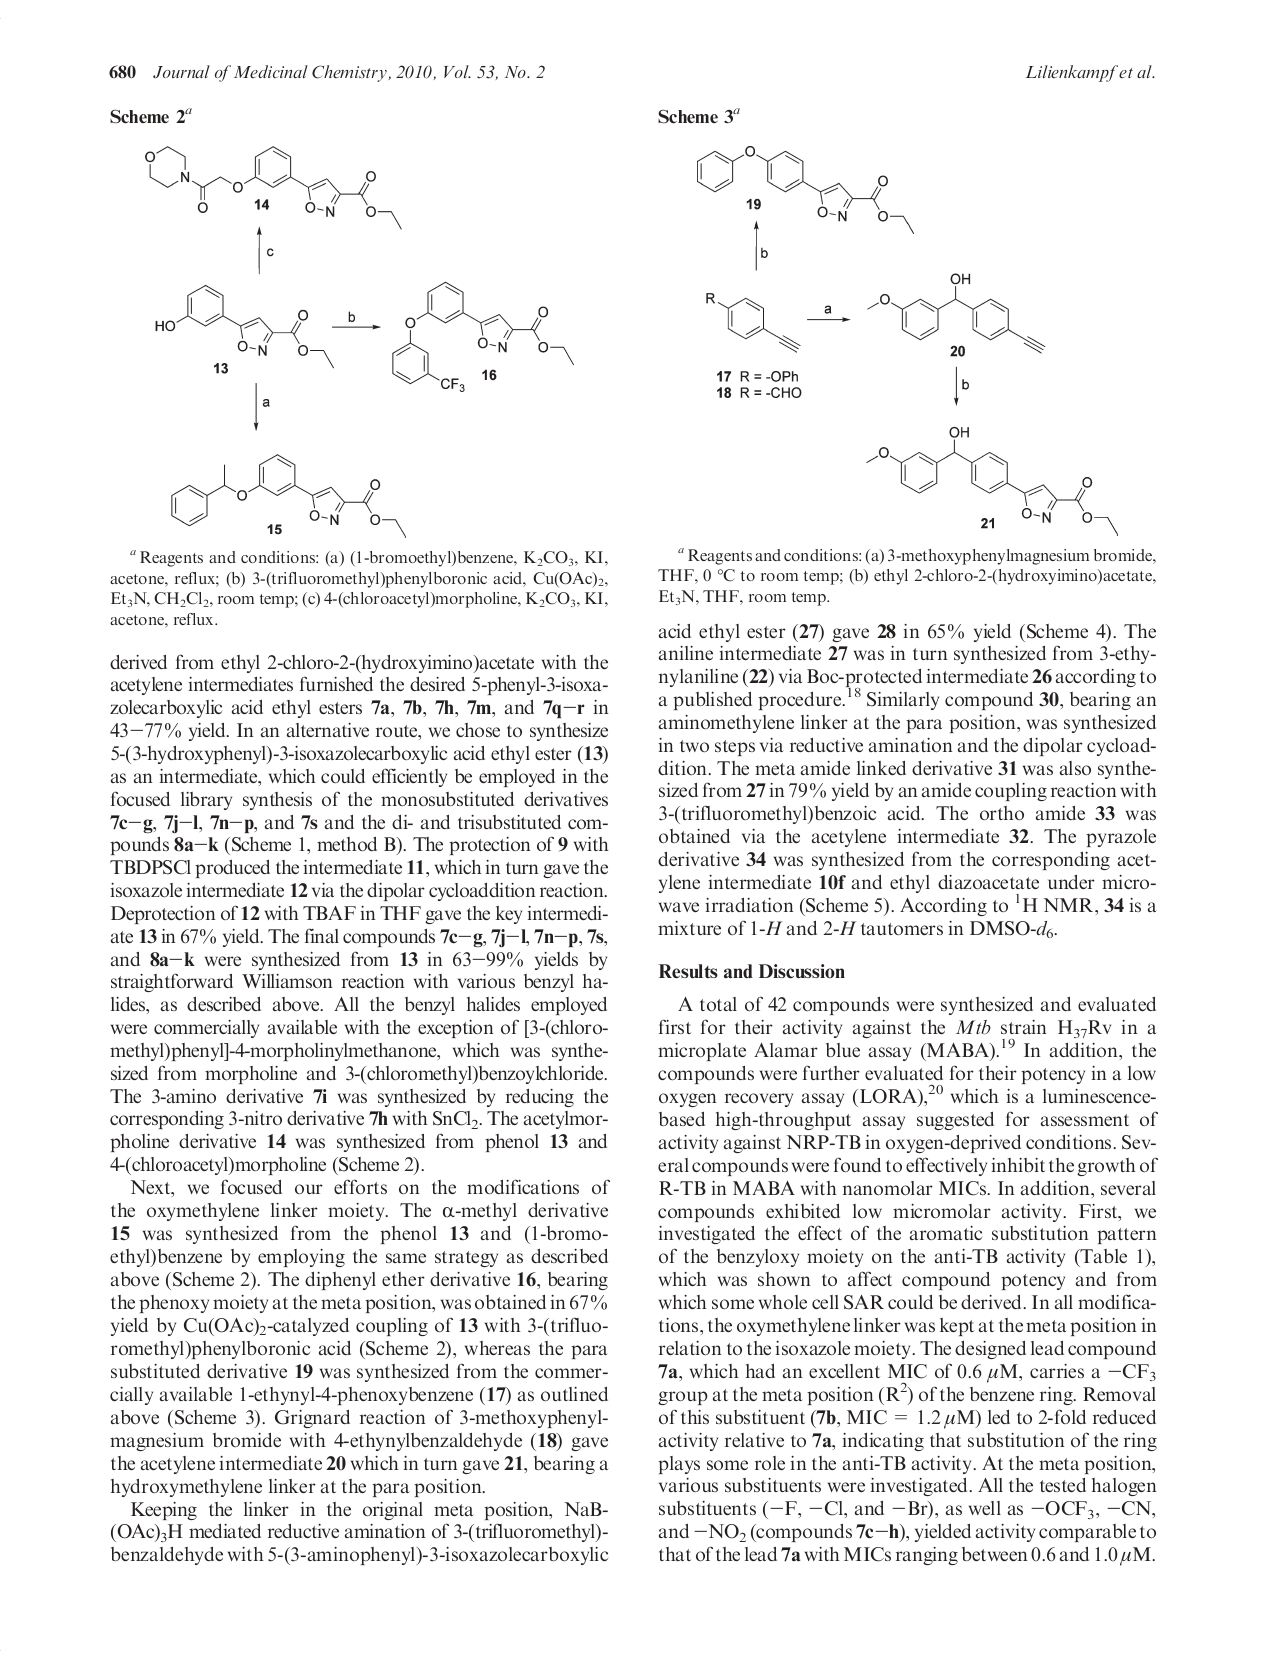exist_molecular: (866, 423, 1122, 541), (144, 142, 406, 231), (169, 449, 410, 543), (390, 277, 577, 392), (693, 144, 918, 238), (153, 283, 336, 372), (864, 269, 1051, 356), (701, 290, 801, 354)
